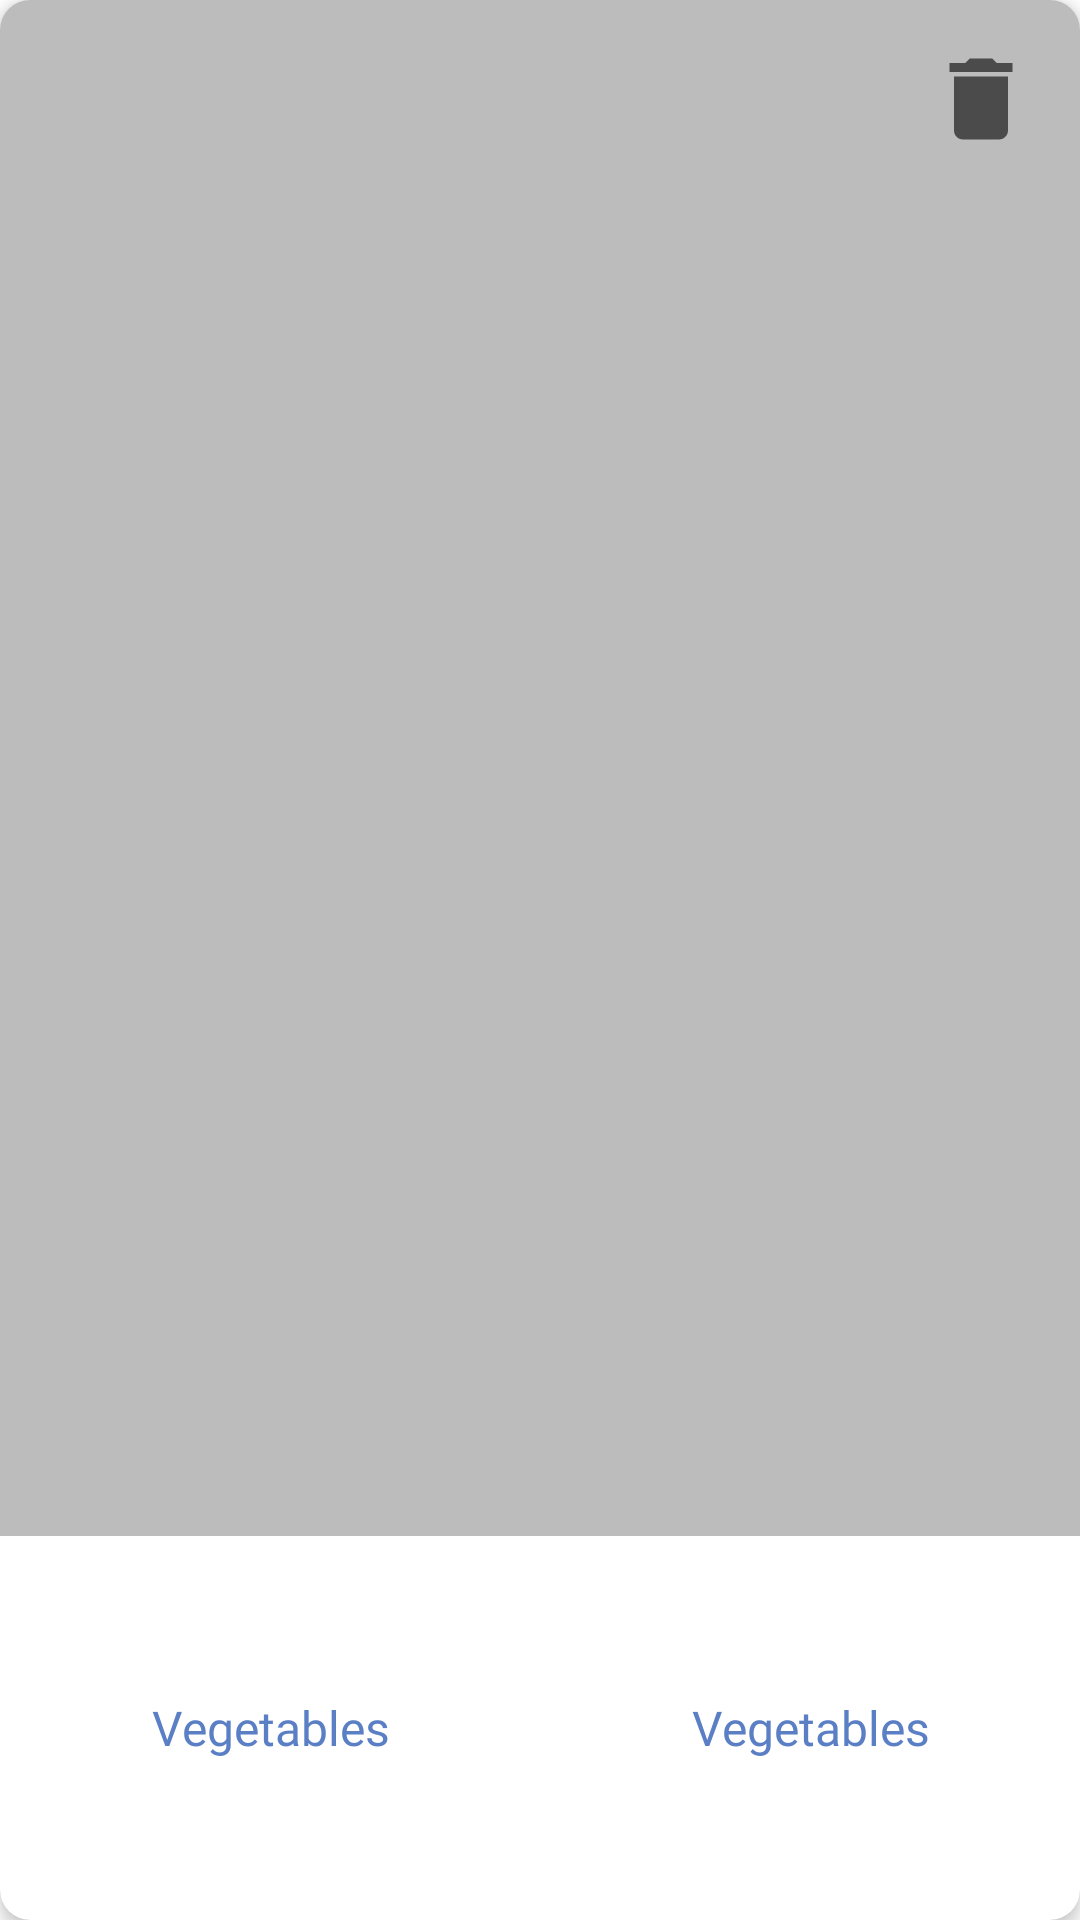

Named icons in this screenshot (1080w x 1920h) and their bounding boxes, [left=x1, top=y1, right=x2, bottom=y2]:
delete: [left=949, top=58, right=1013, bottom=140]
